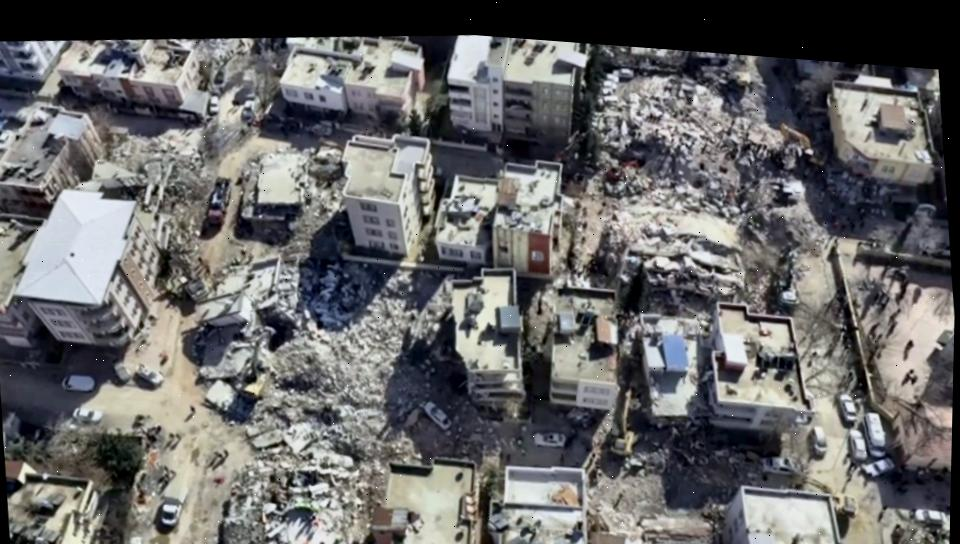kapali: (192, 388, 532, 469), (736, 55, 840, 311), (169, 239, 275, 396), (566, 420, 776, 490)
